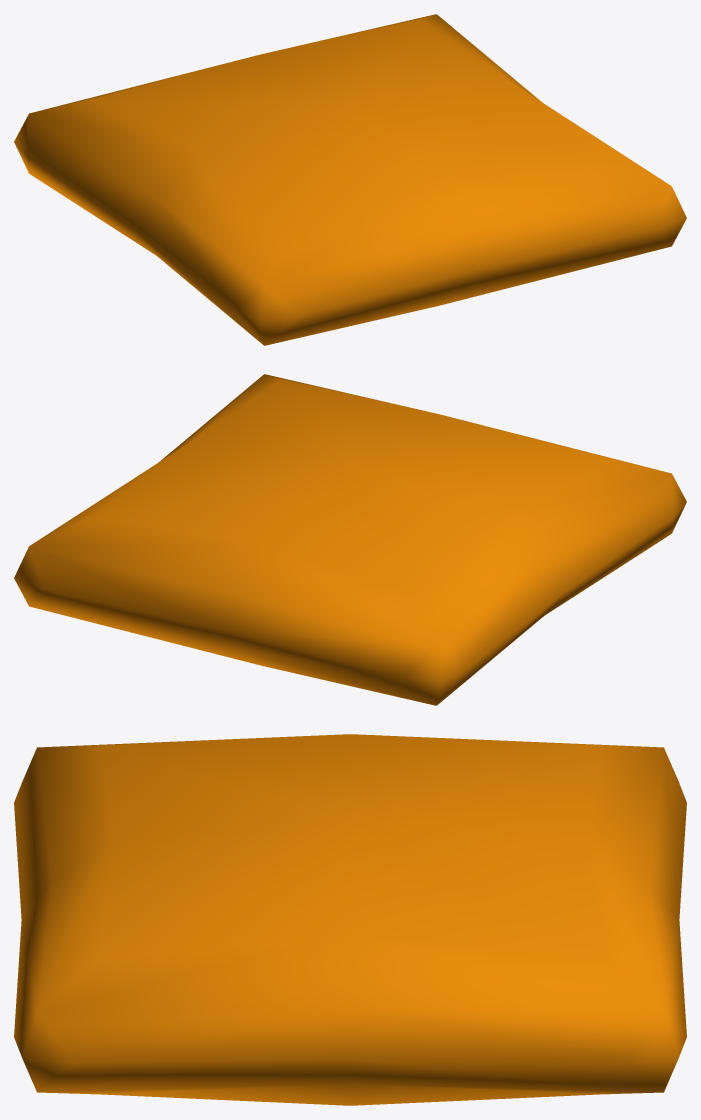
The model's file is Pillow.fbx.
The picture shows the model from 3 angles, top to bottom: view 1: azimuth 30°, elevation 25°; view 2: azimuth 150°, elevation 25°; view 3: azimuth 270°, elevation 25°; orthographic projection. The views are drawn at different scales.
Parts seen in each view (by area): view 1: Pillow; view 2: Pillow; view 3: Pillow.
Boxes of the visible parts, box(x1,y1,x2,y2) form: Pillow: box(14, 14, 686, 345); Pillow: box(14, 374, 686, 705); Pillow: box(14, 734, 686, 1105).
Size of the model in its own units: 47.82 by 15.9 by 47.82.
